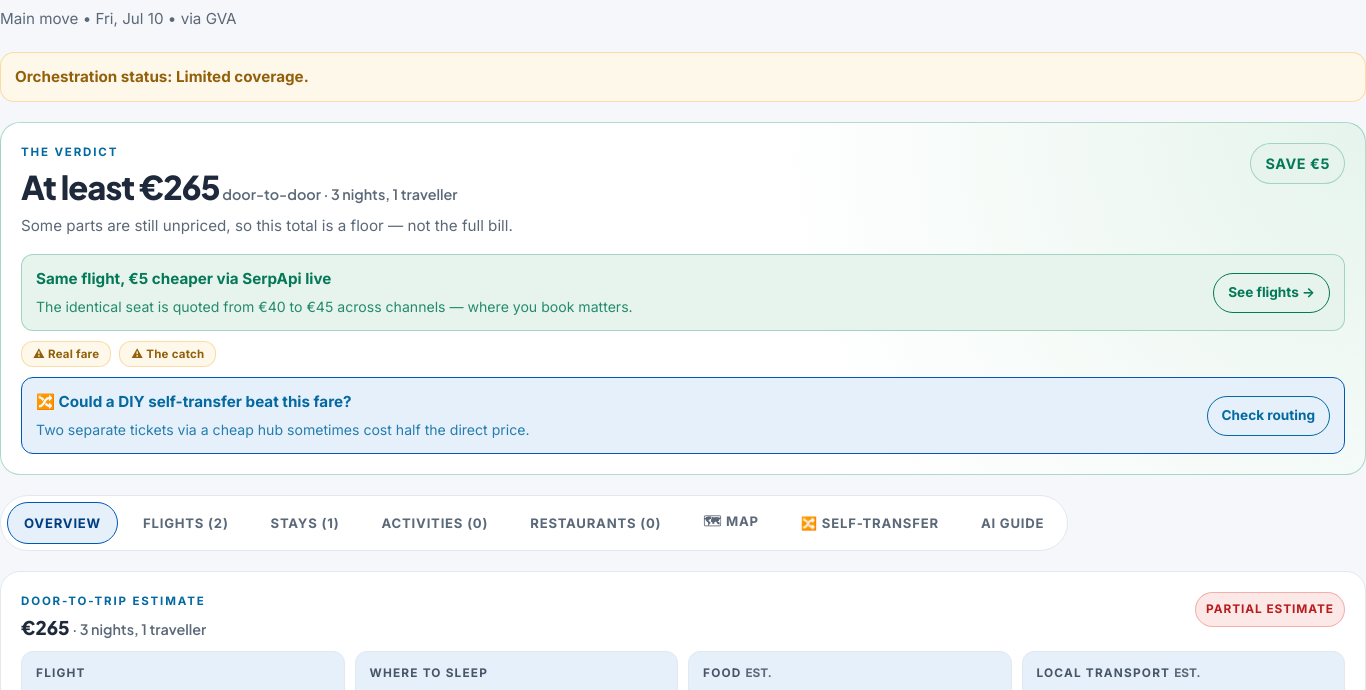
Scenario: TripExploreDashboard — direct stays fallback › renders labeled direct hotel-search results when the backend had no city coordinates
The image size is (1366, 690).
Click the tab "Stays (1)" at (305, 523), box [254, 502, 357, 544]
(page scrolled)
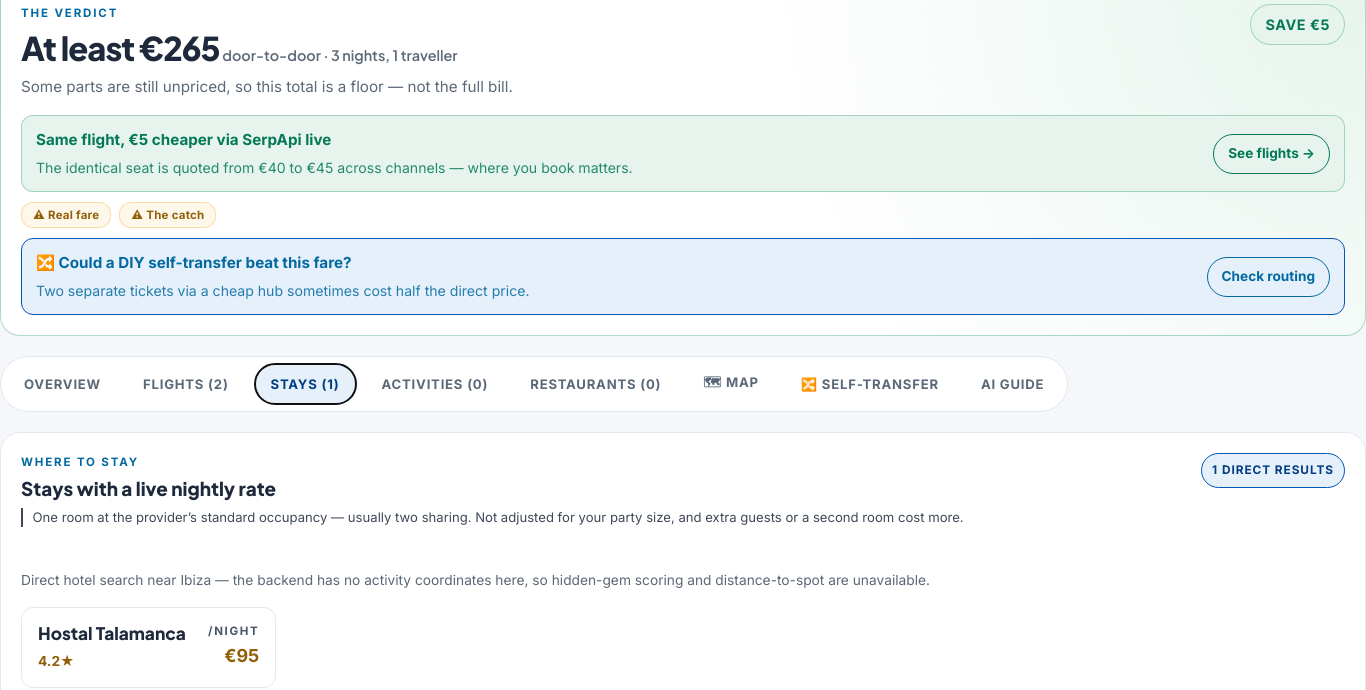
Expected: the text "1 direct results" is shown, [1201, 453, 1345, 488]
Expected: the text "Direct hotel search near Ibiza" is shown, [21, 572, 930, 588]
Expected: the heading "Hostal Talamanca" is shown, [38, 622, 186, 644]
